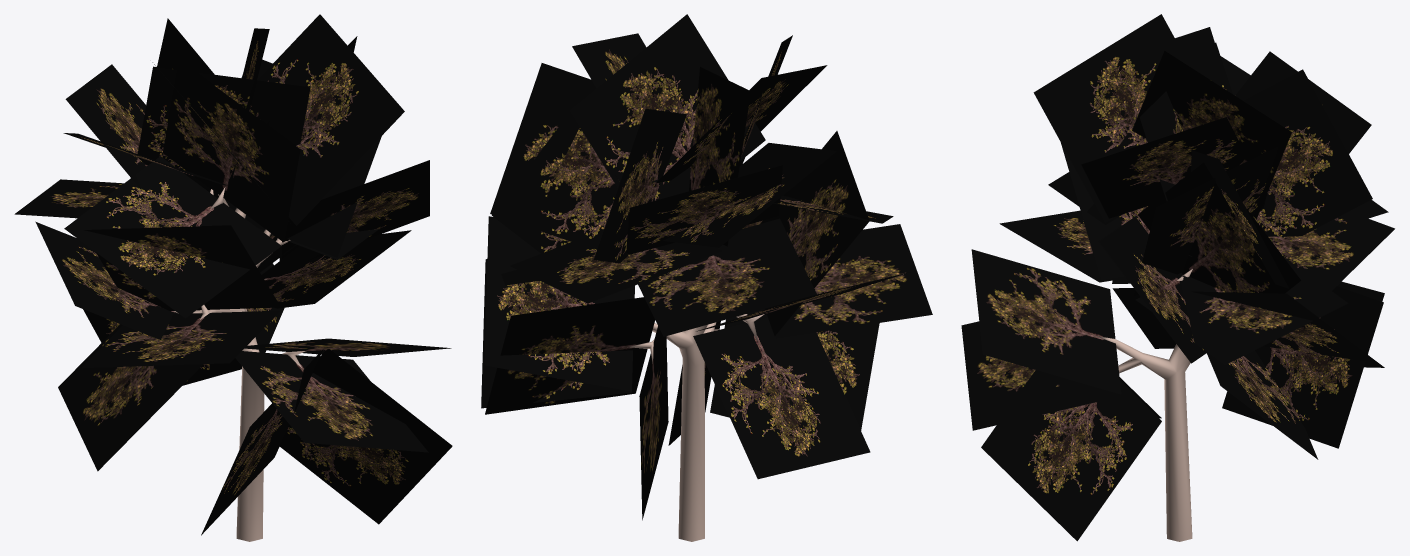
The model's file is tree5.glb.
3 views of the same model, side by side, from view 1: azimuth 30°, elevation 25°; view 2: azimuth 150°, elevation 25°; view 3: azimuth 270°, elevation 25° (orthographic). The views are drawn at different scales.
Bounding box in the file's own units: 5.67 × 7.07 × 5.66.
Materials: 2 (1 with a texture image).
